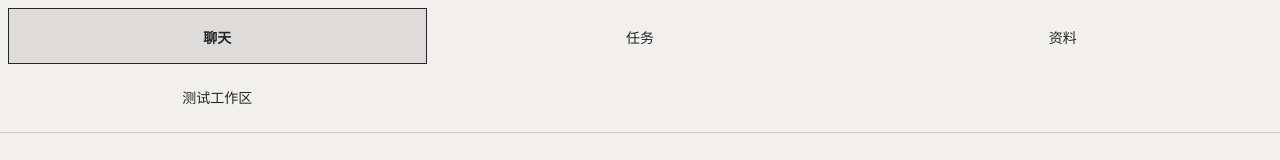
Test case: application extension hosts › renders new workspaces in navigation and restores the built-in list on unload
Click the button "测试工作区" at (217, 96), box [8, 68, 427, 124]
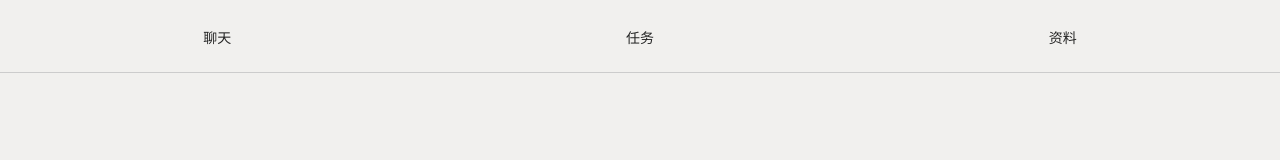
Check: the button "聊天" is shown, box [8, 8, 427, 64]
Check: the button "测试工作区" is gone
